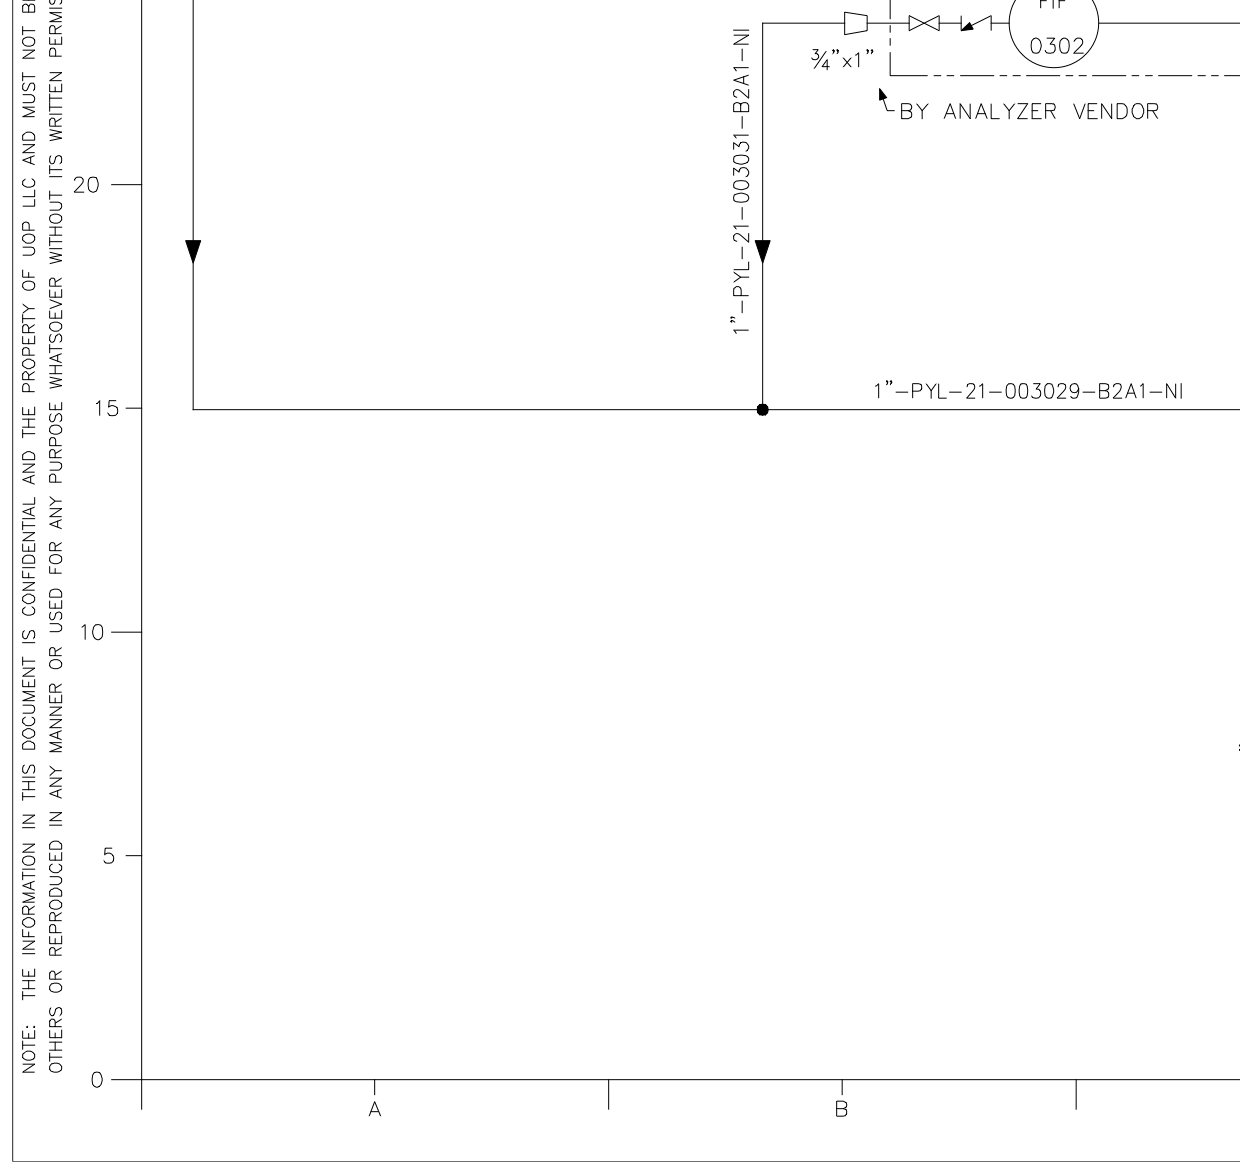Check Valve: (957, 11, 997, 35)
Intrument Tag: (1007, 1, 1105, 71)
Line Number: (865, 372, 1192, 403), (725, 24, 756, 339)
